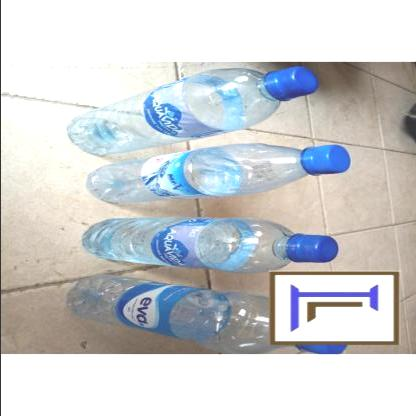bottle: (66, 269, 352, 354), (67, 58, 314, 154), (79, 138, 359, 209), (78, 216, 344, 276)
